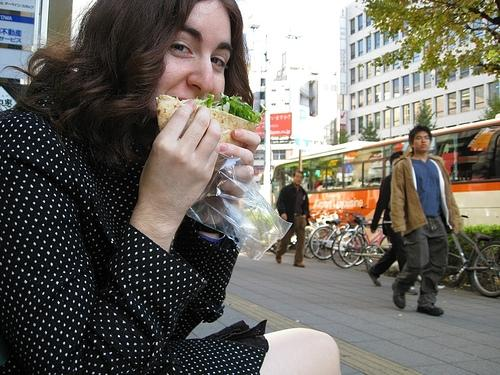lettuce: (180, 92, 265, 124)
